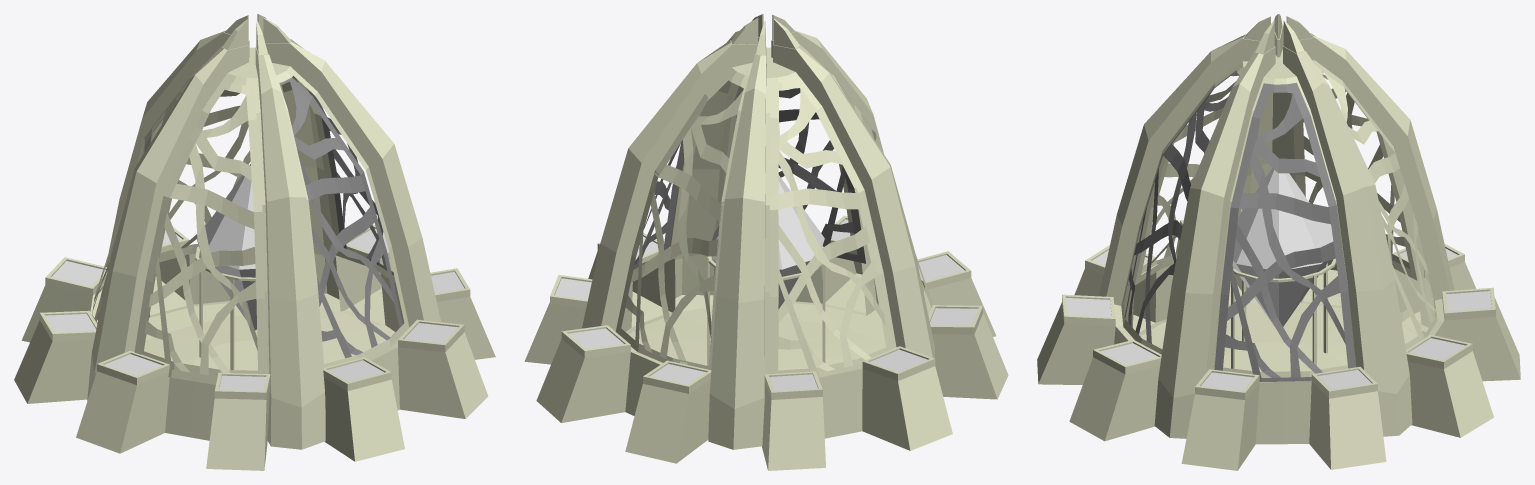
Rendered from soporteinferior.fbx.
The picture shows the model from 3 angles, left to right: view 1: azimuth 30°, elevation 25°; view 2: azimuth 150°, elevation 25°; view 3: azimuth 270°, elevation 25°; orthographic projection.
Parts seen in each view (by area): view 1: Cube.013; view 2: Cube.013; view 3: Cube.013.
Boxes of the visible parts, <box> form: Cube.013: <box>14,14,495,470</box>; Cube.013: <box>524,14,1008,470</box>; Cube.013: <box>1037,14,1520,470</box>.
Size of the model in its own units: 240 by 196 by 242.
